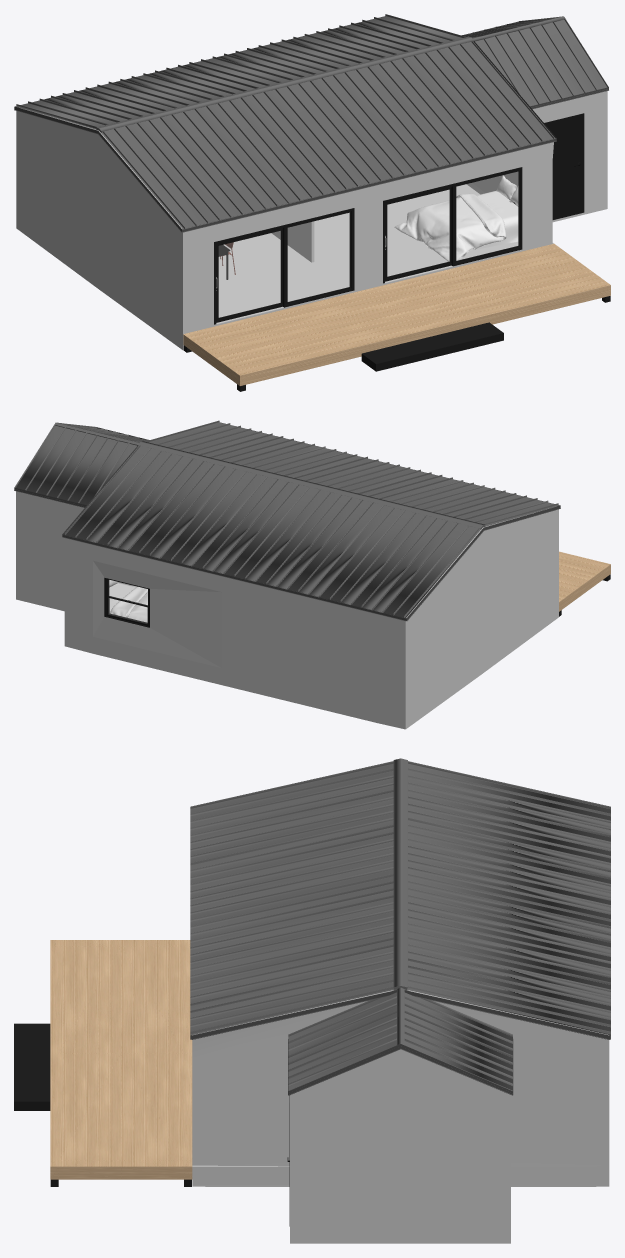
File: 800Sqft-2-1.glb
The picture shows the model from 3 angles, top to bottom: view 1: azimuth 30°, elevation 25°; view 2: azimuth 150°, elevation 25°; view 3: azimuth 270°, elevation 25°; orthographic projection. The views are drawn at different scales.
Visible parts, largest first — view 1: Root_SHEET, Outer_Wall, Wooden_Base, House_Base, Root_SHEET1, Glass01_2, Glass01, Glass02_2, Glass02, Bedsheet01, Side_Room, Door_Frame01 (+8 smaller); view 2: Outer_Wall, Root_SHEET, Root_SHEET1, Side_Room, Roof_BASE, Wooden_Base, polySurface7074, Bedsheet02, polySurface7073; view 3: Root_SHEET, Side_Room, Wooden_Base, Outer_Wall, Root_SHEET1, House_Base, Wooden_Step, Roof_BASE, Roof_BASE1.
Part boxes in pixels (<box>): Root_SHEET: <box>15,14,555,229</box>; Outer_Wall: <box>16,108,553,350</box>; Wooden_Base: <box>183,243,610,385</box>; House_Base: <box>218,184,553,317</box>; Root_SHEET1: <box>461,16,608,107</box>; Glass01_2: <box>456,172,518,260</box>; Glass01: <box>288,213,349,301</box>; Glass02_2: <box>387,190,449,276</box>; Glass02: <box>219,231,280,317</box>; Bedsheet01: <box>394,193,506,261</box>; Side_Room: <box>532,91,607,222</box>; Door_Frame01: <box>544,113,584,219</box>; Outer_Wall: <box>64,508,558,729</box>; Root_SHEET: <box>63,420,559,618</box>; Root_SHEET1: <box>14,422,149,506</box>; Side_Room: <box>16,491,84,611</box>; Roof_BASE: <box>62,423,560,621</box>; Wooden_Base: <box>559,551,610,611</box>; polySurface7074: <box>108,580,147,623</box>; Bedsheet02: <box>110,586,147,622</box>; polySurface7073: <box>104,577,149,627</box>; Root_SHEET: <box>190,758,610,1035</box>; Side_Room: <box>290,1049,510,1243</box>; Wooden_Base: <box>50,940,192,1179</box>; Outer_Wall: <box>192,990,609,1186</box>; Root_SHEET1: <box>288,987,512,1090</box>; House_Base: <box>192,1165,608,1185</box>; Wooden_Step: <box>14,1023,50,1110</box>; Roof_BASE: <box>190,990,610,1039</box>; Roof_BASE1: <box>288,1039,513,1095</box>.
Bounding box in the file's own units: 0.1234 × 0.0412 × 0.1093.
Materials: 15 (1 with a texture image).
